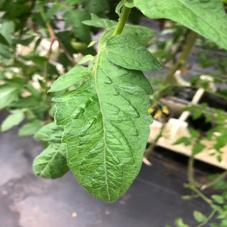Healthy: (46, 33, 162, 204)
